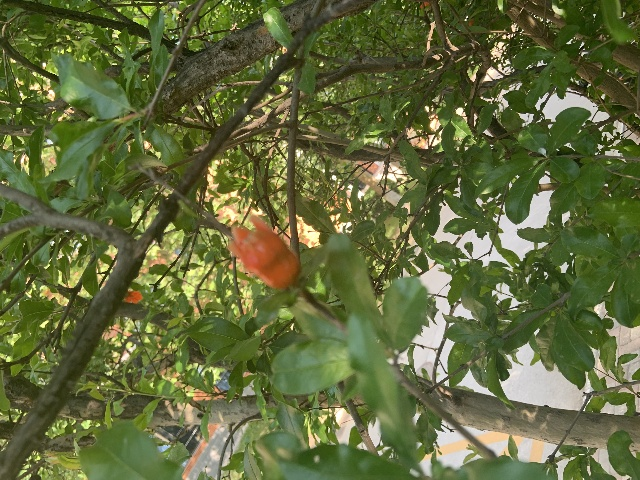flower: (227, 217, 299, 289), (124, 290, 142, 303)
